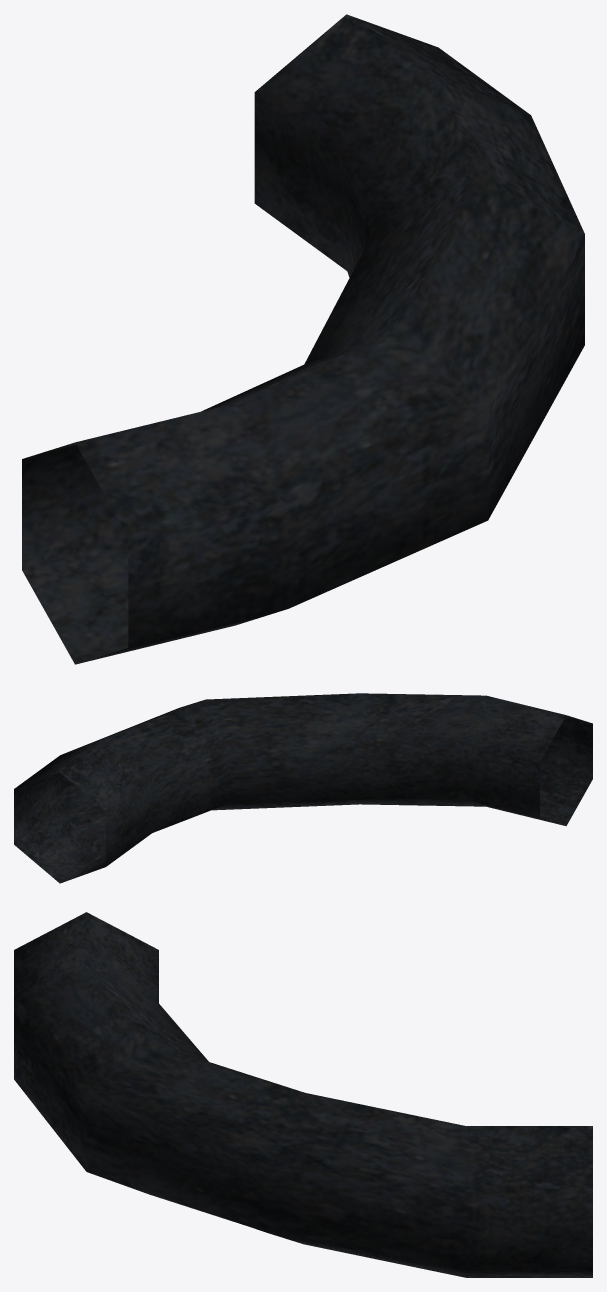
The model's file is cable_thick_bend_med.dae.
The picture shows the model from 3 angles, top to bottom: view 1: azimuth 30°, elevation 25°; view 2: azimuth 150°, elevation 25°; view 3: azimuth 270°, elevation 25°; orthographic projection. The views are drawn at different scales.
Visible parts, largest first — view 1: cable_thick_bend_med; view 2: cable_thick_bend_med; view 3: cable_thick_bend_med.
Part boxes in pixels (<box>): cable_thick_bend_med: <box>22,14,584,664</box>; cable_thick_bend_med: <box>14,693,592,883</box>; cable_thick_bend_med: <box>14,912,592,1277</box>.
Bounding box in the file's own units: 57.16 × 18.22 × 57.16.
